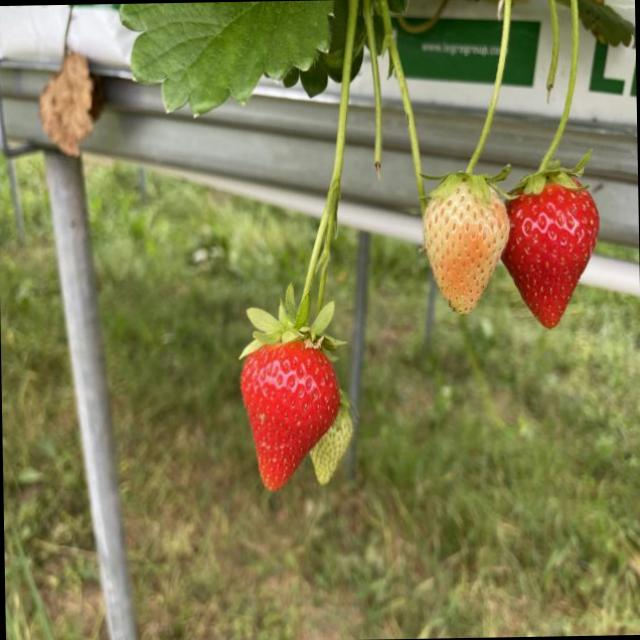stem: (240, 68, 348, 356), (430, 0, 511, 201), (511, 55, 590, 195)
strawberryNR: (423, 183, 508, 312)
strawberryR: (240, 343, 337, 488), (502, 184, 595, 326)
